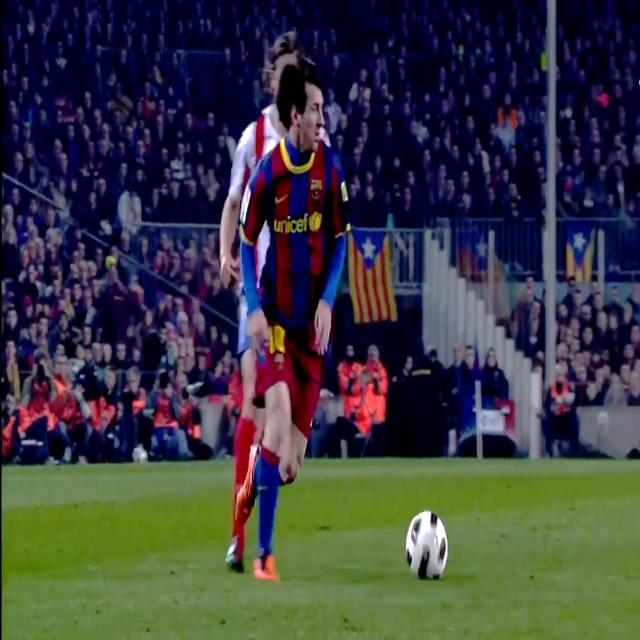ball: (406, 513, 452, 579)
